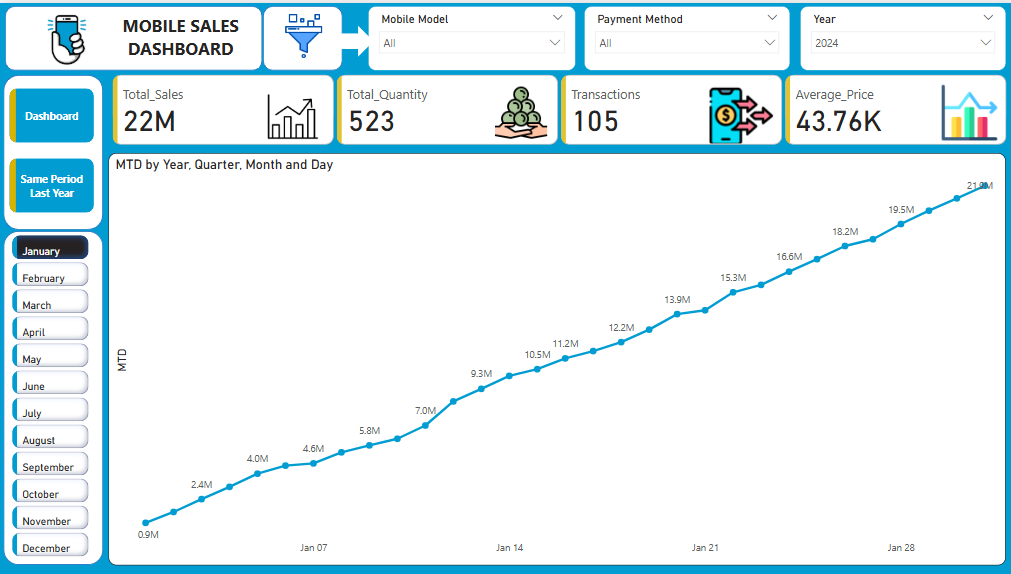

The dashboard page shown, as its layout file describes it:
{"tool":"powerbi","page":{"name":"MTD Report","canvas":[1280,720],"ordinal":1},"visuals":[{"type":"shape","box":[5.1,89.8,125.4,194.9],"z":0},{"type":"cardVisual","fields":{"Data":["Sales_Data.Total_Sales","Sales_Data.Total_Quantity","Sales_Data.Transactions","Sales_Data.Average_Price"]},"box":[137.3,84.7,1135.6,98.3],"z":1000},{"type":"slicer","fields":{"Values":["Sales_Data.Mobile Model"]},"box":[464.4,3.4,261,81.4],"z":2000},{"type":"slicer","fields":{"Values":["Sales_Data.Payment Method"]},"box":[736.4,3.4,259.3,81.4],"z":3000},{"type":"slicer","fields":{"Values":["Custom_Calendar.Date.Variation.Date Hierarchy.Year","Custom_Calendar.Date.Variation.Date Hierarchy.Quarter","Custom_Calendar.Date.Variation.Date Hierarchy.Month","Custom_Calendar.Date.Variation.Date Hierarchy.Day"]},"box":[1006.8,3.4,259.3,81.4],"z":4000},{"type":"shape","box":[332.2,3.4,100,81.4],"z":5000},{"type":"image","box":[333.9,8.5,98.3,67.8],"z":6000},{"type":"shape","box":[420.6,28.6,50.8,39.7],"z":7000},{"type":"shape","box":[8.5,3.4,323.7,81.4],"z":8000},{"type":"textbox","box":[130.4,7.6,196.5,73.7],"z":9000},{"type":"image","box":[0,0,171.2,91.5],"z":10000},{"type":"lineChart","fields":{"Y":["Sales_Data.MTD"],"Category":["Custom_Calendar.Date.Variation.Date Hierarchy.Year","Custom_Calendar.Date.Variation.Date Hierarchy.Quarter","Custom_Calendar.Date.Variation.Date Hierarchy.Month","Custom_Calendar.Date.Variation.Date Hierarchy.Day"]},"box":[137.3,188.1,1128.8,518.6],"z":11000},{"type":"shape","box":[5.1,286.4,125.4,420.3],"z":12000},{"type":"advancedSlicerVisual","fields":{"Values":["Custom_Calendar.Date.Variation.Date Hierarchy.Month"]},"box":[11.9,286.4,106.8,420.3],"z":13000},{"type":"pageNavigator","box":[13.6,108.5,106.8,157.6],"z":14000}]}

Visuals, with their boxes in screenshot pixels (x1, y1, x2, y2), scaled from the page's 1280x720 canvas onto the 1011x574 screenshot:
shape: rect(4, 72, 103, 227)
cardVisual - Sales_Data.Total_Sales x Sales_Data.Total_Quantity: rect(108, 68, 1005, 146)
slicer - Sales_Data.Mobile Model: rect(367, 3, 573, 68)
slicer - Sales_Data.Payment Method: rect(582, 3, 786, 68)
slicer - Custom_Calendar.Date.Variation.Date Hierarchy.Year x Custom_Calendar.Date.Variation.Date Hierarchy.Quarter: rect(795, 3, 1000, 68)
shape: rect(262, 3, 341, 68)
image: rect(264, 7, 341, 61)
shape: rect(332, 23, 372, 54)
shape: rect(7, 3, 262, 68)
textbox: rect(103, 6, 258, 65)
image: rect(0, 0, 135, 73)
lineChart - Sales_Data.MTD x Custom_Calendar.Date.Variation.Date Hierarchy.Year: rect(108, 150, 1000, 563)
shape: rect(4, 228, 103, 563)
advancedSlicerVisual - Custom_Calendar.Date.Variation.Date Hierarchy.Month: rect(9, 228, 94, 563)
pageNavigator: rect(11, 86, 95, 212)
